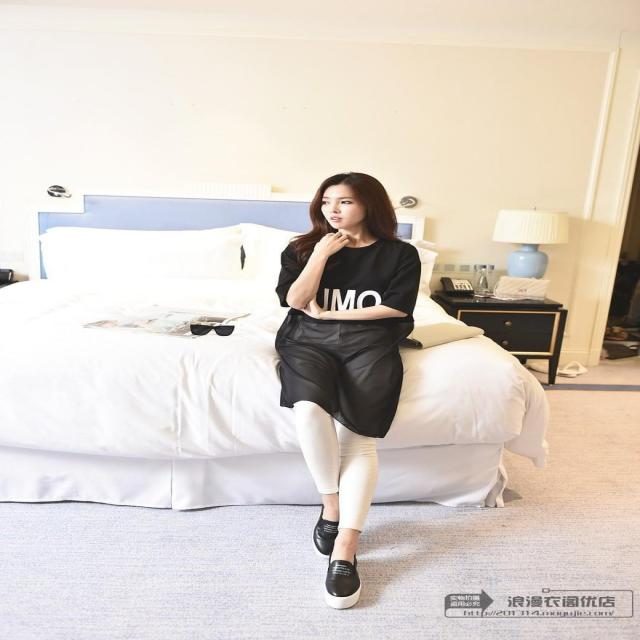short-sleeve-top: (235, 223, 510, 430)
